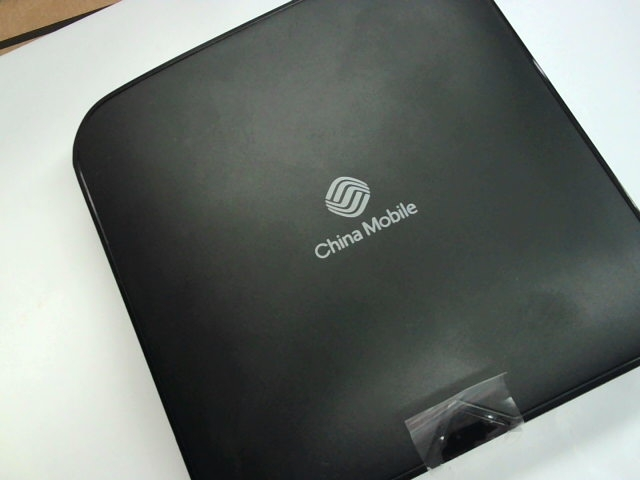ChinaMobile: (308, 165, 432, 263)
